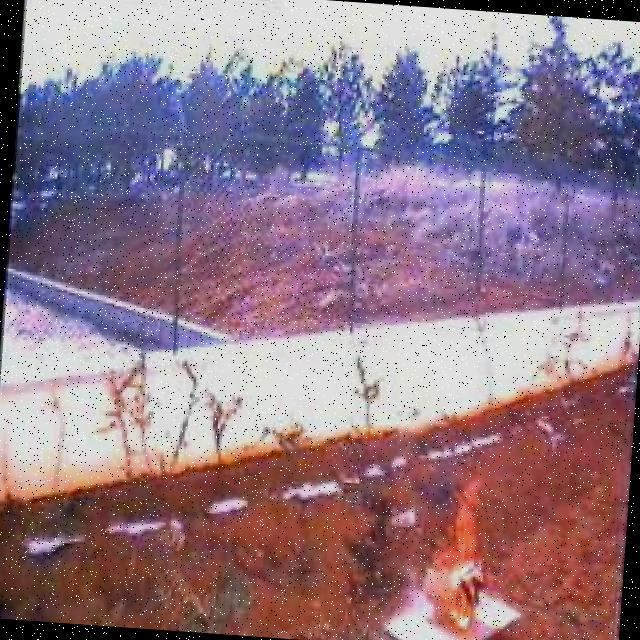Fire: (418, 469, 497, 637)
